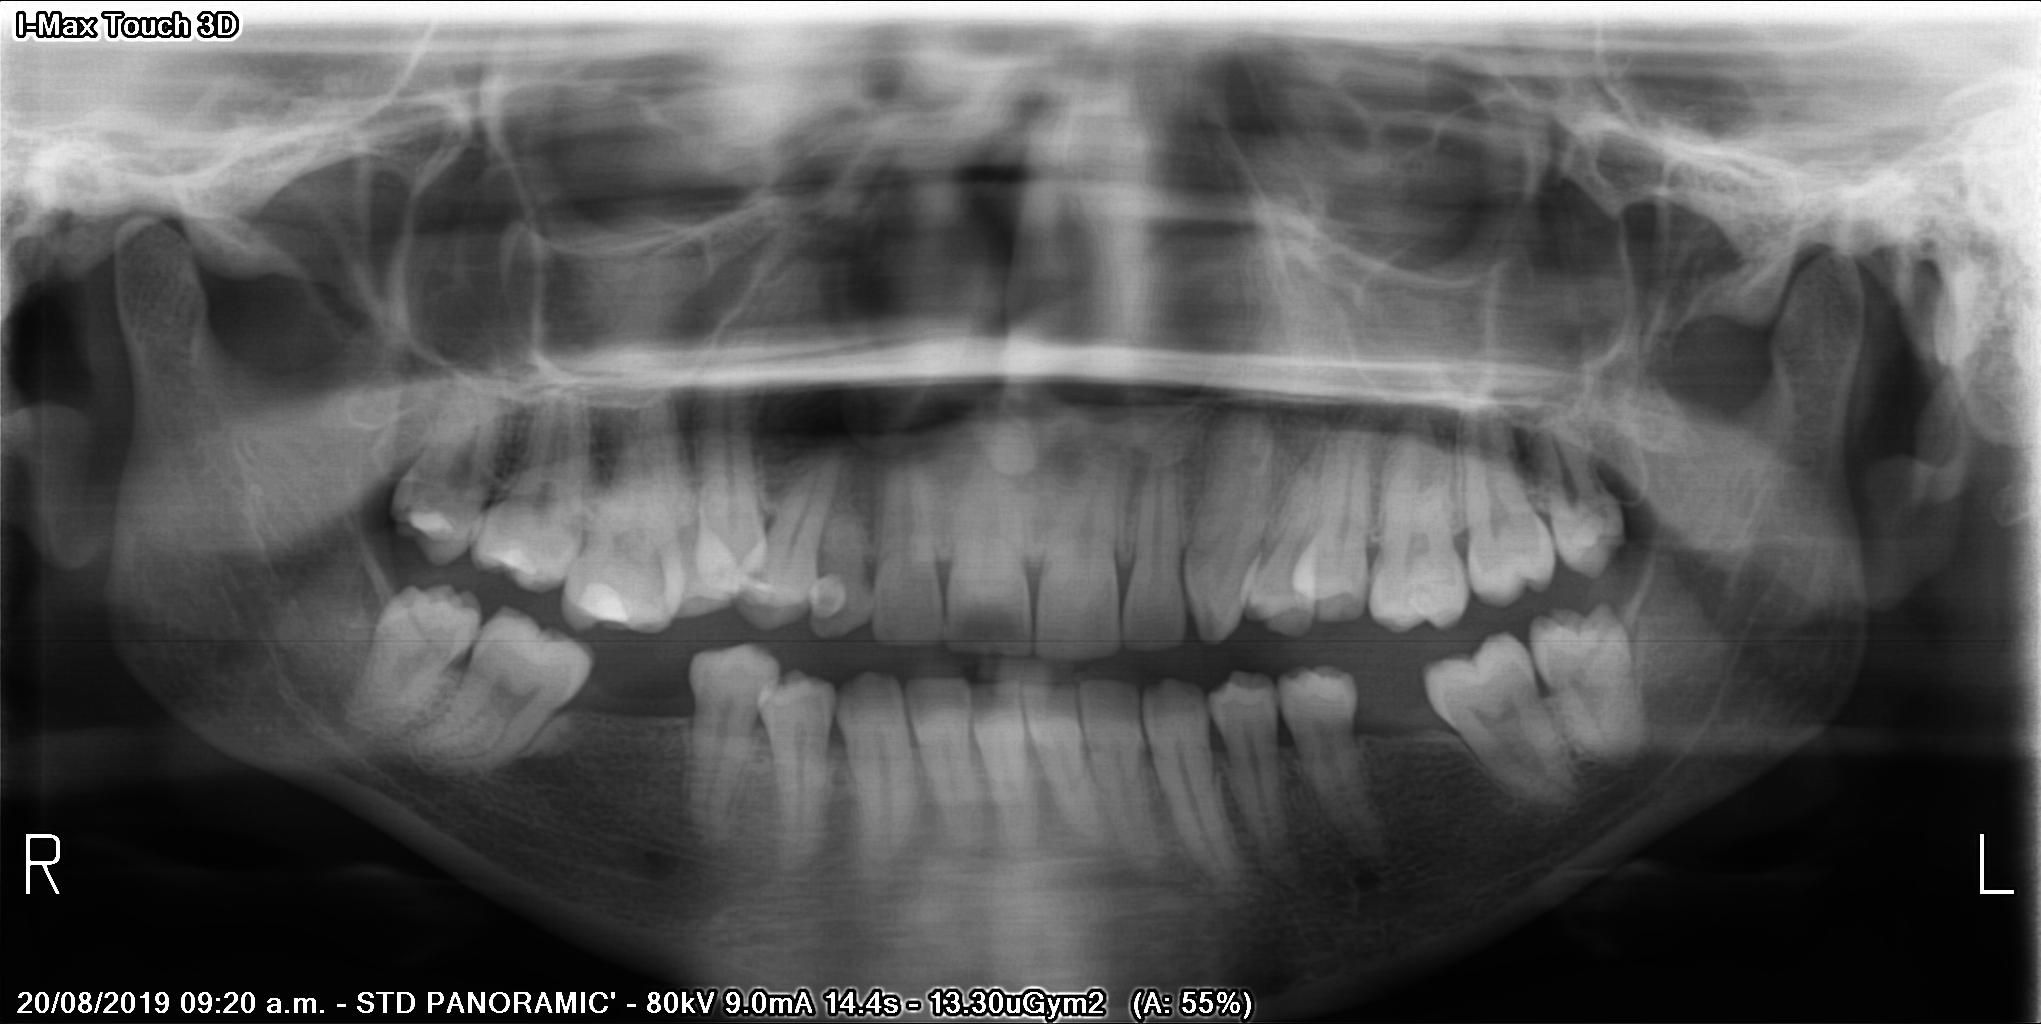Çürük: (568, 566, 646, 636), (392, 486, 462, 550), (799, 566, 858, 624), (484, 538, 547, 586)
